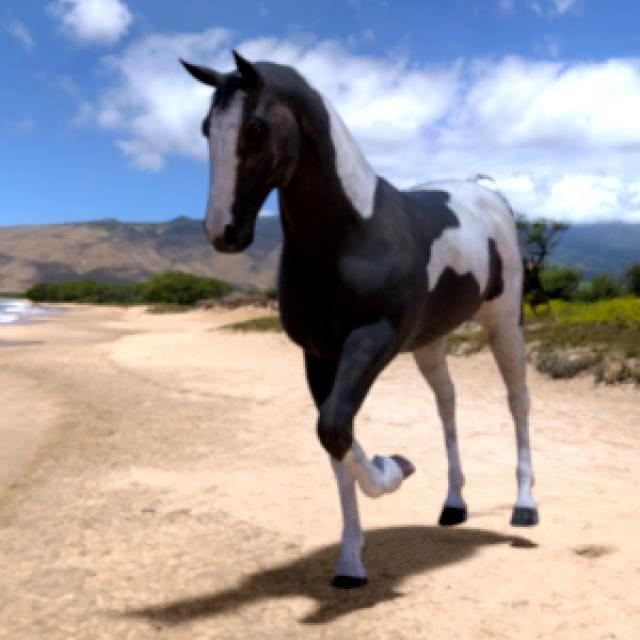horse: (184, 54, 539, 586)
